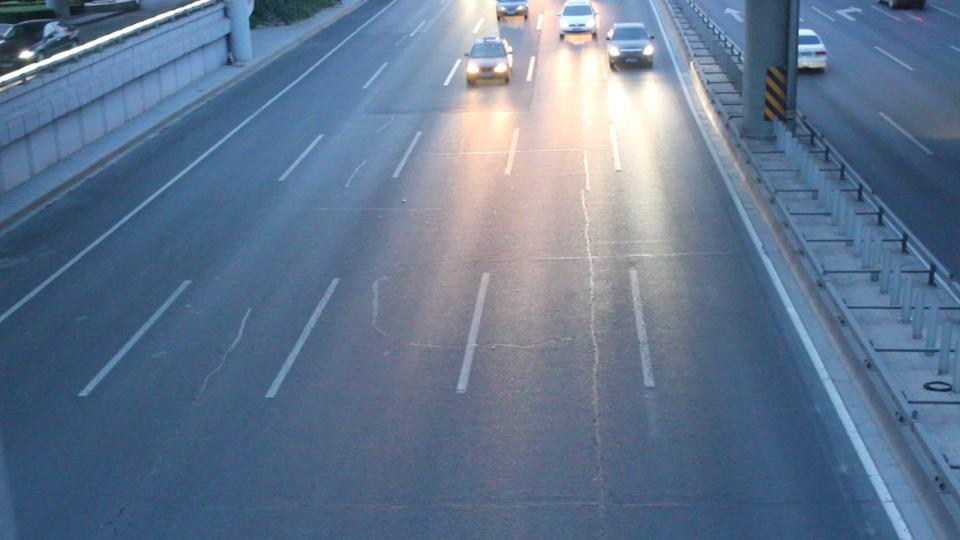Car: (463, 37, 512, 82), (604, 23, 651, 68), (558, 1, 596, 39)
